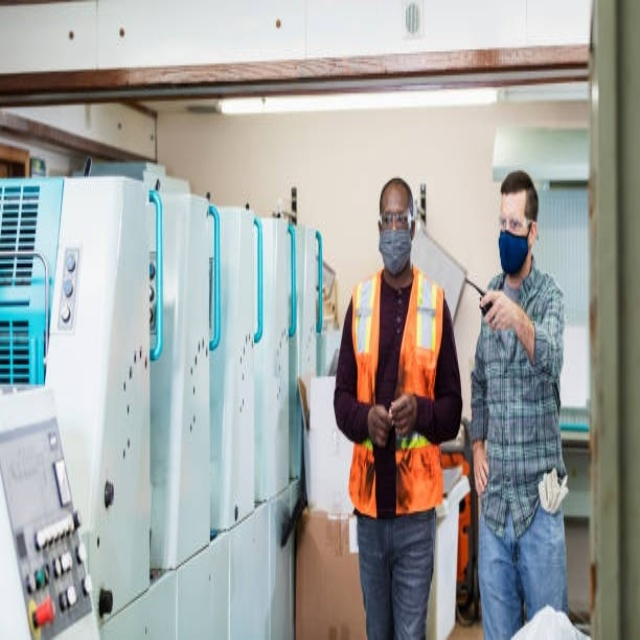Gafas: (379, 211, 413, 230), (498, 216, 532, 234)
Mascara: (379, 228, 413, 276), (498, 227, 531, 274)
Sin_gafas: (379, 210, 413, 229)
Sin_guantes: (480, 289, 519, 337), (389, 392, 418, 437), (367, 400, 394, 448), (473, 447, 491, 496)
